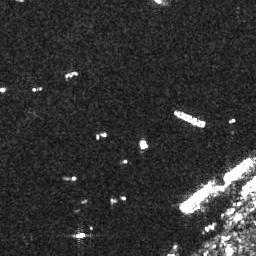ship: (223, 156, 251, 181), (174, 108, 206, 129), (72, 230, 89, 238), (62, 174, 77, 183), (137, 138, 148, 149), (64, 70, 78, 78), (95, 131, 107, 140), (32, 86, 43, 92), (1, 85, 7, 92)
